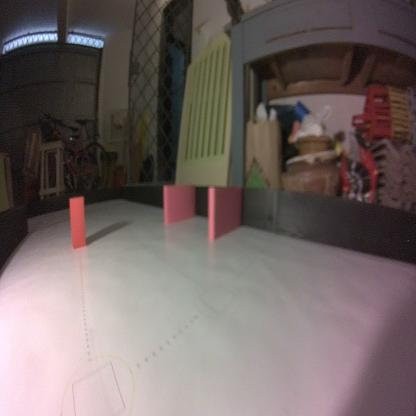magenta: (206, 183, 244, 241), (162, 182, 197, 226)
red: (68, 192, 86, 249)
